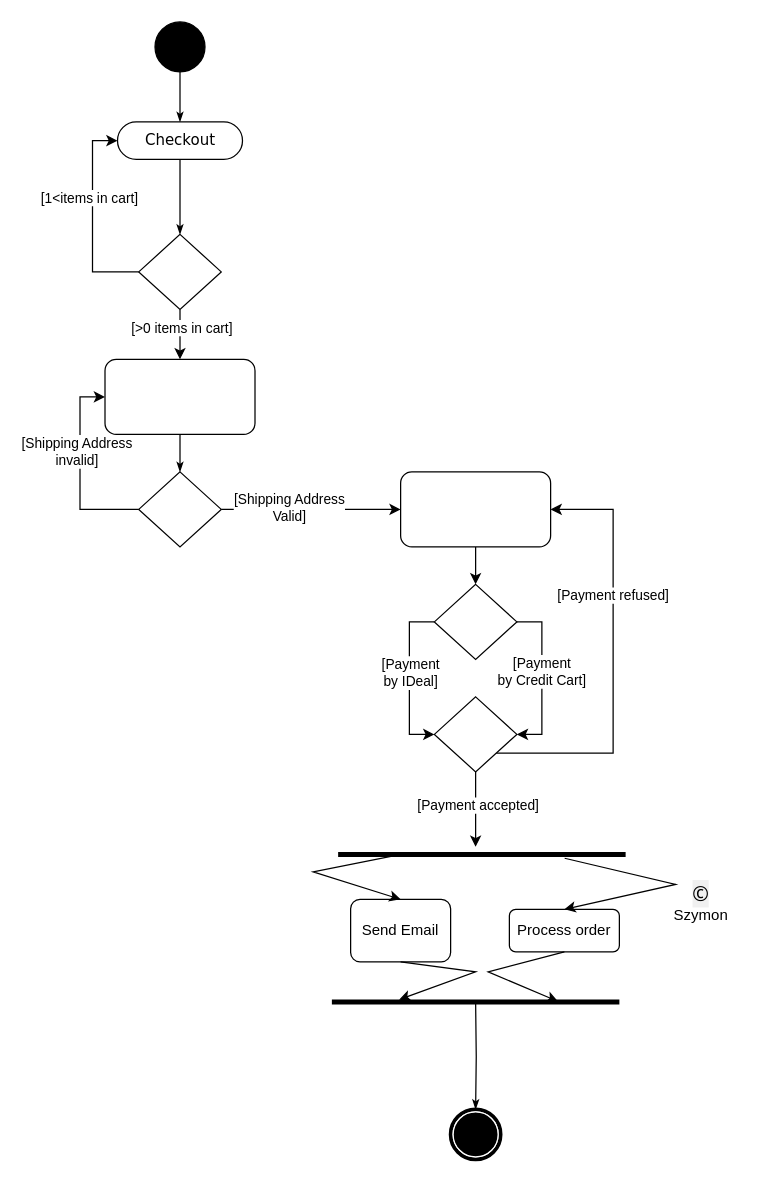
This 773x1181 diagram has some shape labels left out. Each missing label, with the centre of its shape:
"Insert Payment Method" belongs at [475,509].
"Insert Shipping Address" belongs at [179,396].
